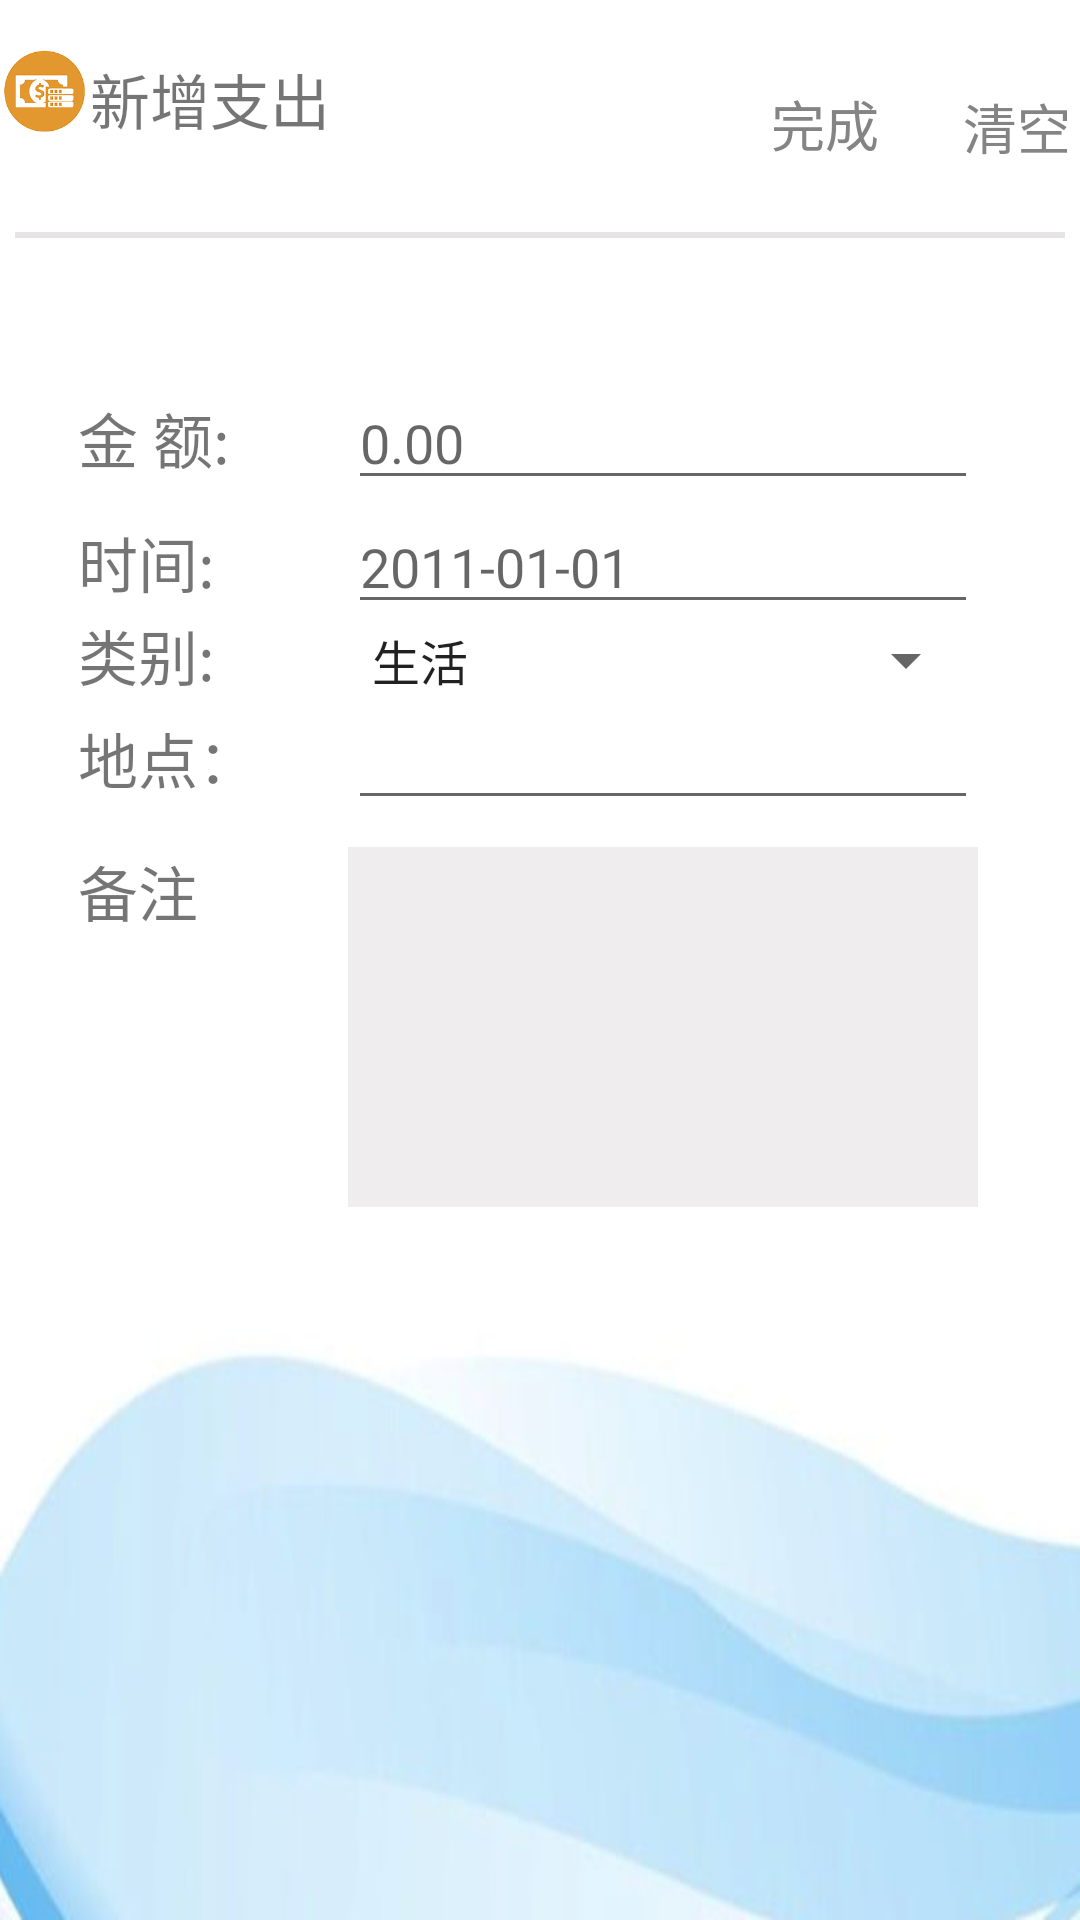

Where icons sit on this 1080px×1920px app screen, as {"x1": x1, "y1": y1, "x2": x2, "y2": y2}:
addout: {"x1": 4, "y1": 51, "x2": 85, "y2": 132}
